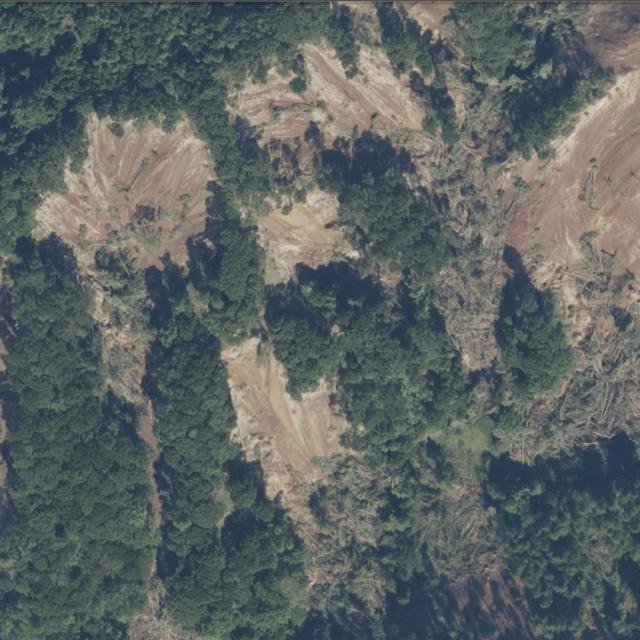landslide: (227, 2, 640, 443), (33, 113, 217, 440), (220, 323, 353, 550)
